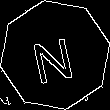N_N: (30, 26, 80, 84)
